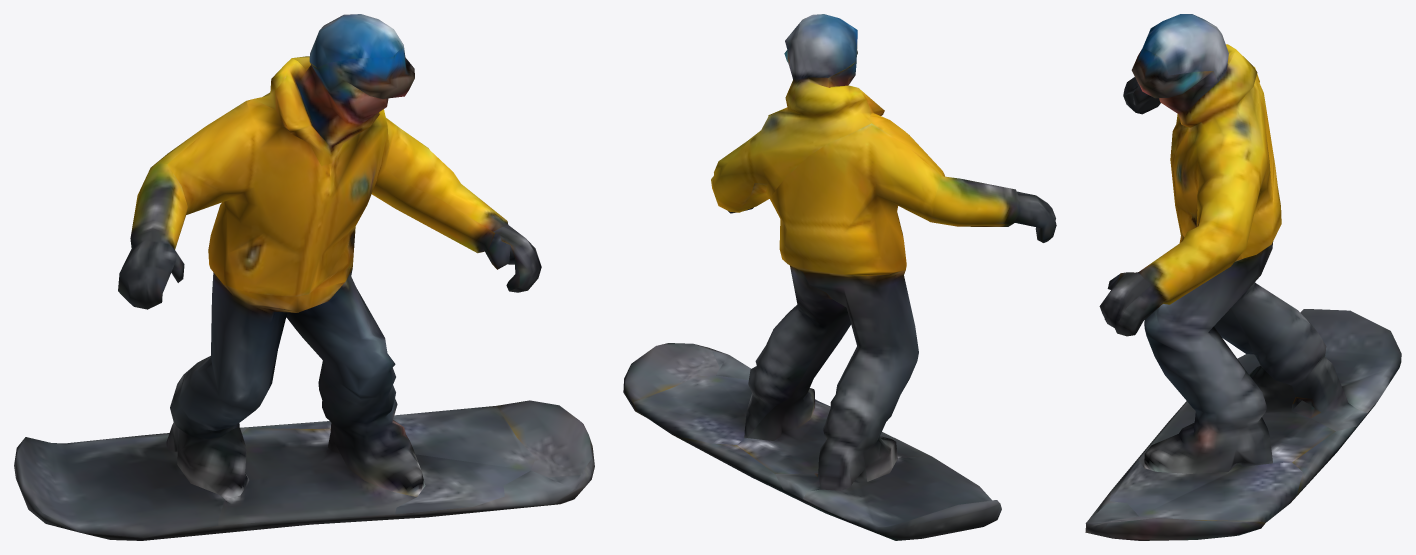
The model's file is dio_snowboarder.glb.
3 views of the same model, side by side, from view 1: azimuth 30°, elevation 25°; view 2: azimuth 150°, elevation 25°; view 3: azimuth 270°, elevation 25° (orthographic). The views are drawn at different scales.
Visible parts, largest first — view 1: tripo_part_5; view 2: tripo_part_5; view 3: tripo_part_5.
Part boxes in pixels (<box>): tripo_part_5: <box>14,14,594,540</box>; tripo_part_5: <box>623,14,1056,540</box>; tripo_part_5: <box>1085,14,1401,540</box>.
Size of the model in its own units: 0.1811 by 0.1745 by 0.1119.
Materials: 1 (1 with a texture image).
